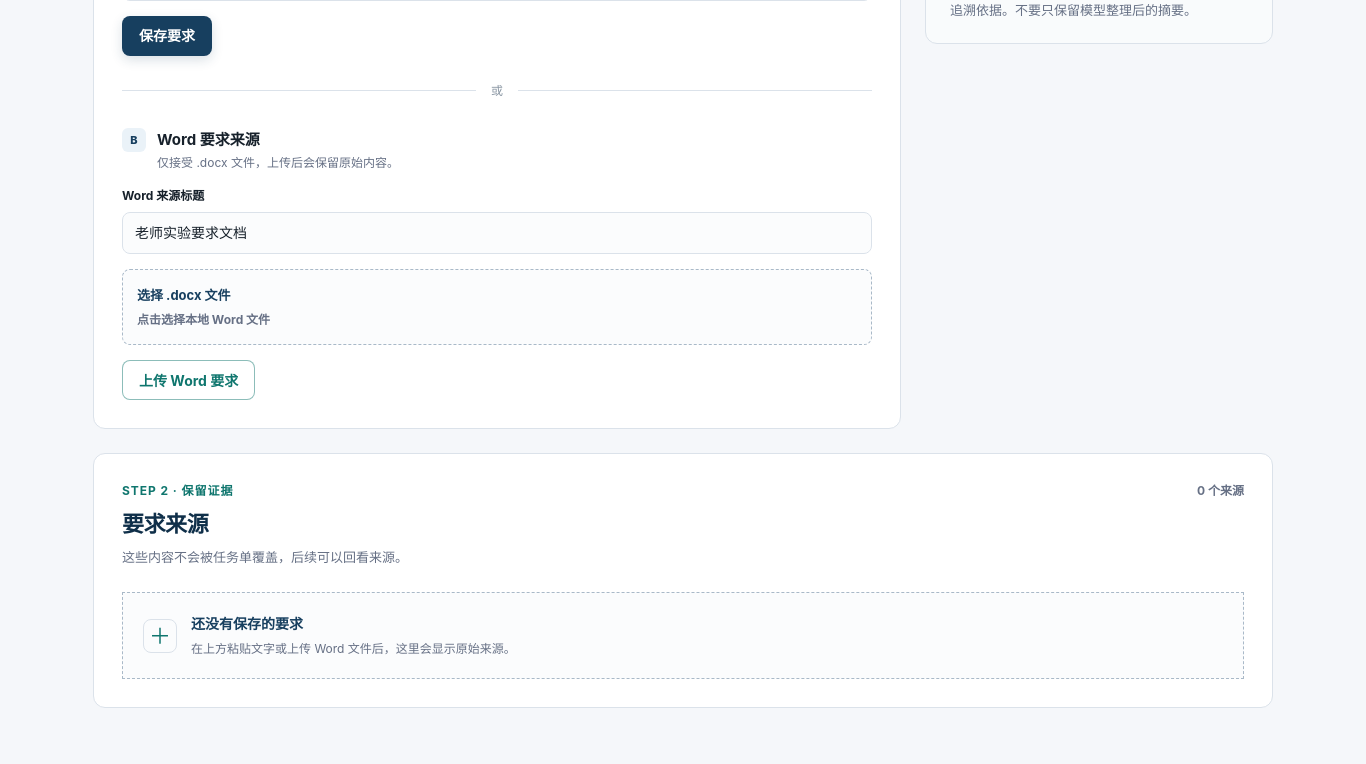
RequirementWorkspaceView - Word 上传区域 › 未选择文件时点击上传显示校验错误
This screenshot has width=1366, height=764.
(page scrolled)
Click the button "上传 Word 要求": [189, 380] box [122,360,255,400]
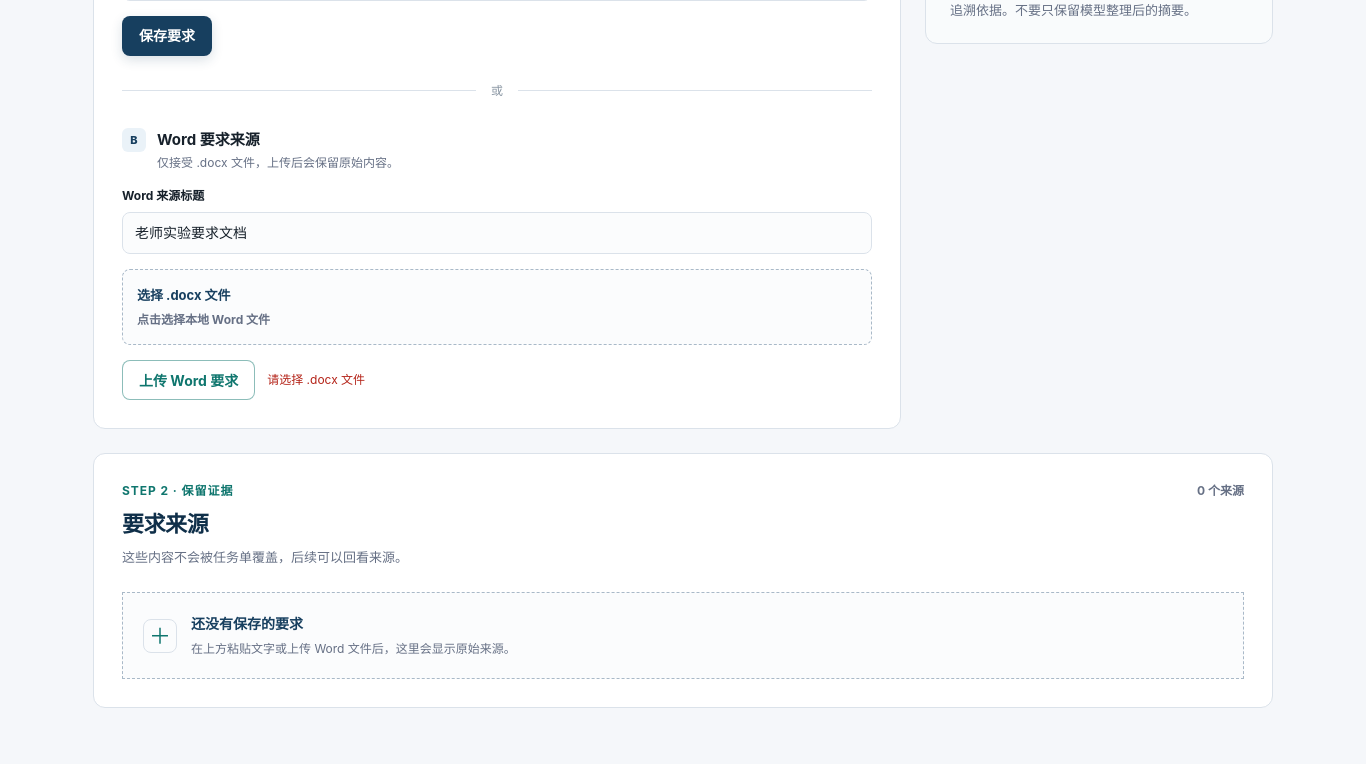
Check: the text "请选择 .docx 文件" is shown, box [267,371,365,389]
